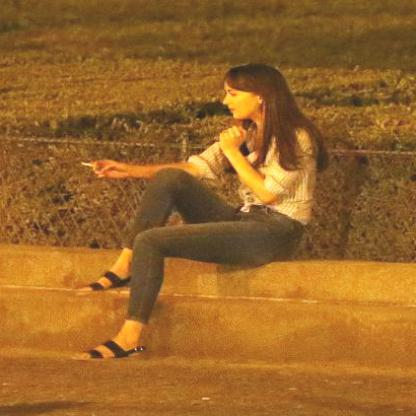person: (104, 60, 320, 348)
